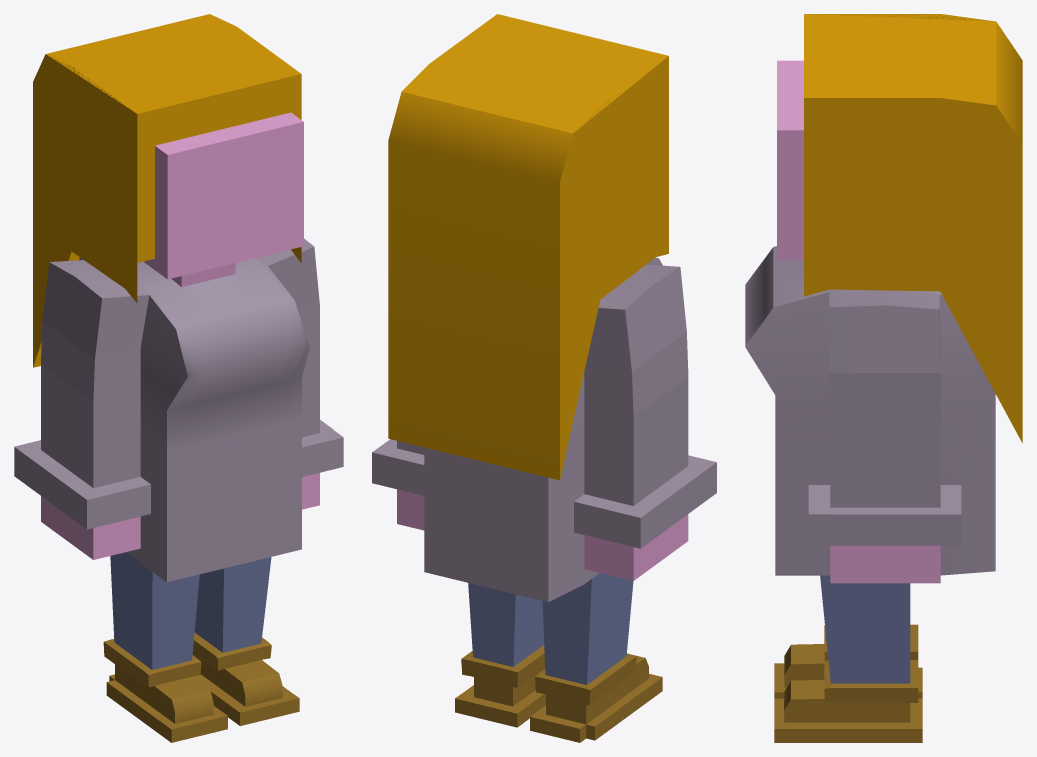
File: CharV1.fbx
3 views of the same model, side by side, from view 1: azimuth 30°, elevation 25°; view 2: azimuth 150°, elevation 25°; view 3: azimuth 270°, elevation 25° (orthographic). The views are drawn at different scales.
Visible parts, largest first — view 1: polySurface1; view 2: polySurface1; view 3: polySurface1.
Part boxes in pixels (x1,y1,x2,y2): polySurface1: (14,14,343,742); polySurface1: (372,14,716,742); polySurface1: (745,14,1022,742).
Bounding box in the file's own units: 6.26 × 14.51 × 5.59.
